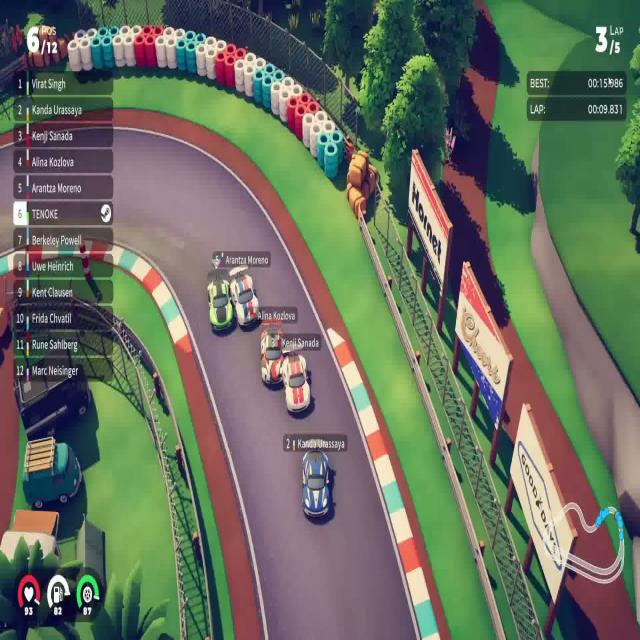car: (301, 448, 331, 520), (228, 265, 260, 328), (281, 351, 312, 414), (206, 275, 233, 334), (260, 326, 286, 387)
